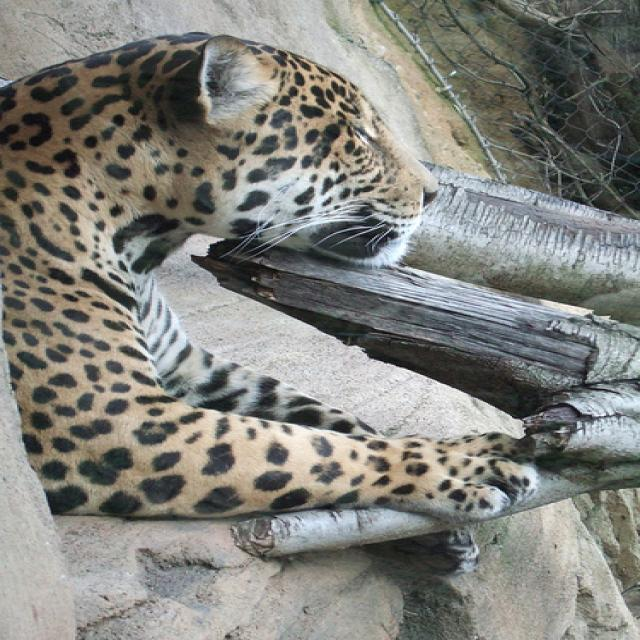Leopard: (0, 27, 541, 518)
